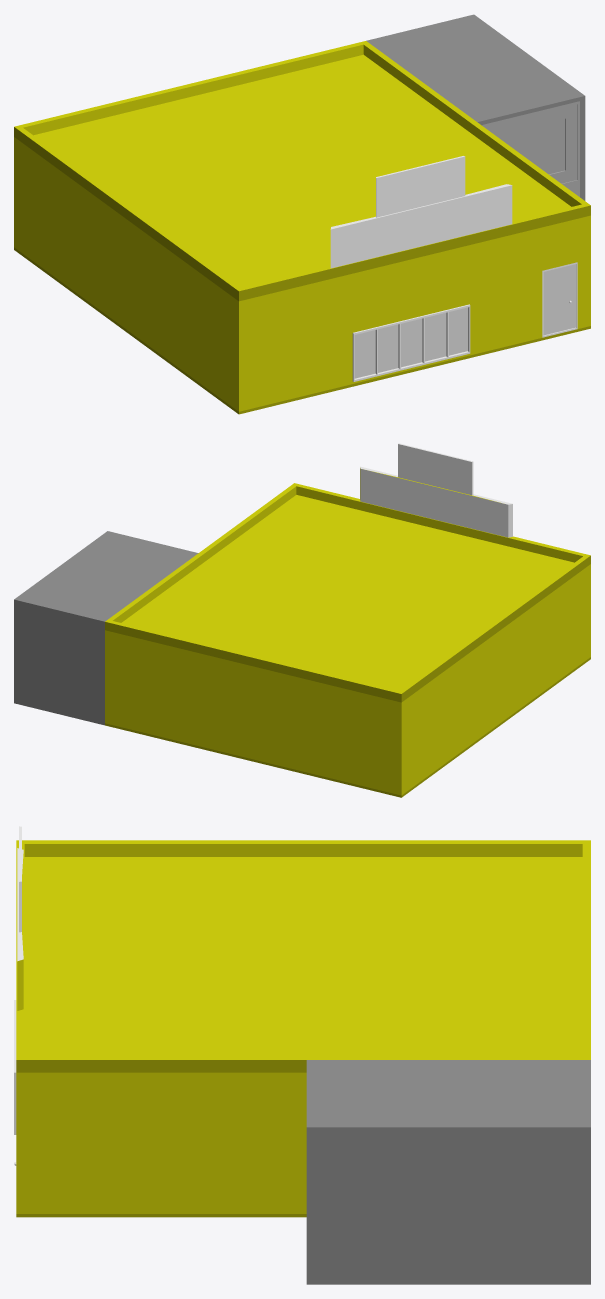
Rendered from Shop_2.fbx.
3 views of the same model, one above another, from view 1: azimuth 30°, elevation 25°; view 2: azimuth 150°, elevation 25°; view 3: azimuth 270°, elevation 25° (orthographic). The views are drawn at different scales.
Parts seen in each view (by area): view 1: Shop_2_Body, Shop_2_DepotDoor, Shop_2_Window, Shop_2_Door; view 2: Shop_2_Body; view 3: Shop_2_Body.
Boxes of the visible parts, x1,y1,x2,y2 form: Shop_2_Body: (14,14,590,414); Shop_2_DepotDoor: (482,101,579,196); Shop_2_Window: (354,307,467,378); Shop_2_Door: (542,262,577,337); Shop_2_Body: (14,443,590,797); Shop_2_Body: (14,826,590,1284).
Size of the model in its own units: 1790 by 750 by 1522.
